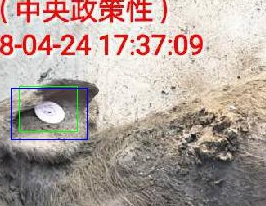text: (19, 86, 77, 131)
